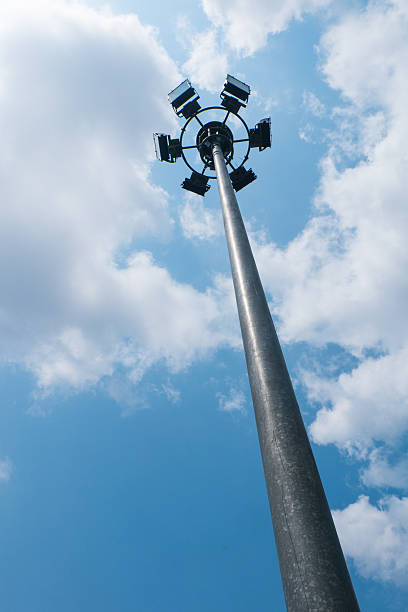light_pole: (206, 150, 362, 612)
